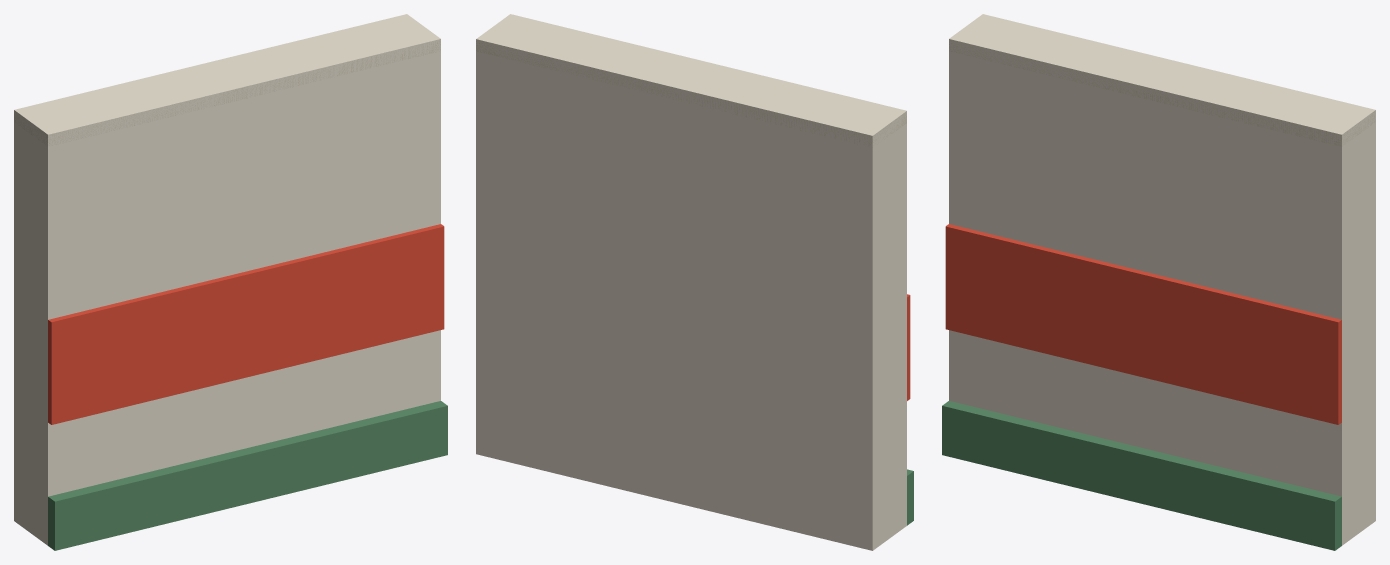
File: wall.glb
3 renders of one model, left to right at view 1: azimuth 30°, elevation 25°; view 2: azimuth 150°, elevation 25°; view 3: azimuth 330°, elevation 25°, orthographic.
Visible parts, largest first — view 1: wall; view 2: wall; view 3: wall.
Boxes of the visible parts, x1=… form: wall: x1=14, y1=14, x2=447, y2=550; wall: x1=476, y1=14, x2=913, y2=550; wall: x1=942, y1=14, x2=1375, y2=550.
Size of the model in its own units: 1 by 1 by 0.18.
Materials: 1 (1 with a texture image).
